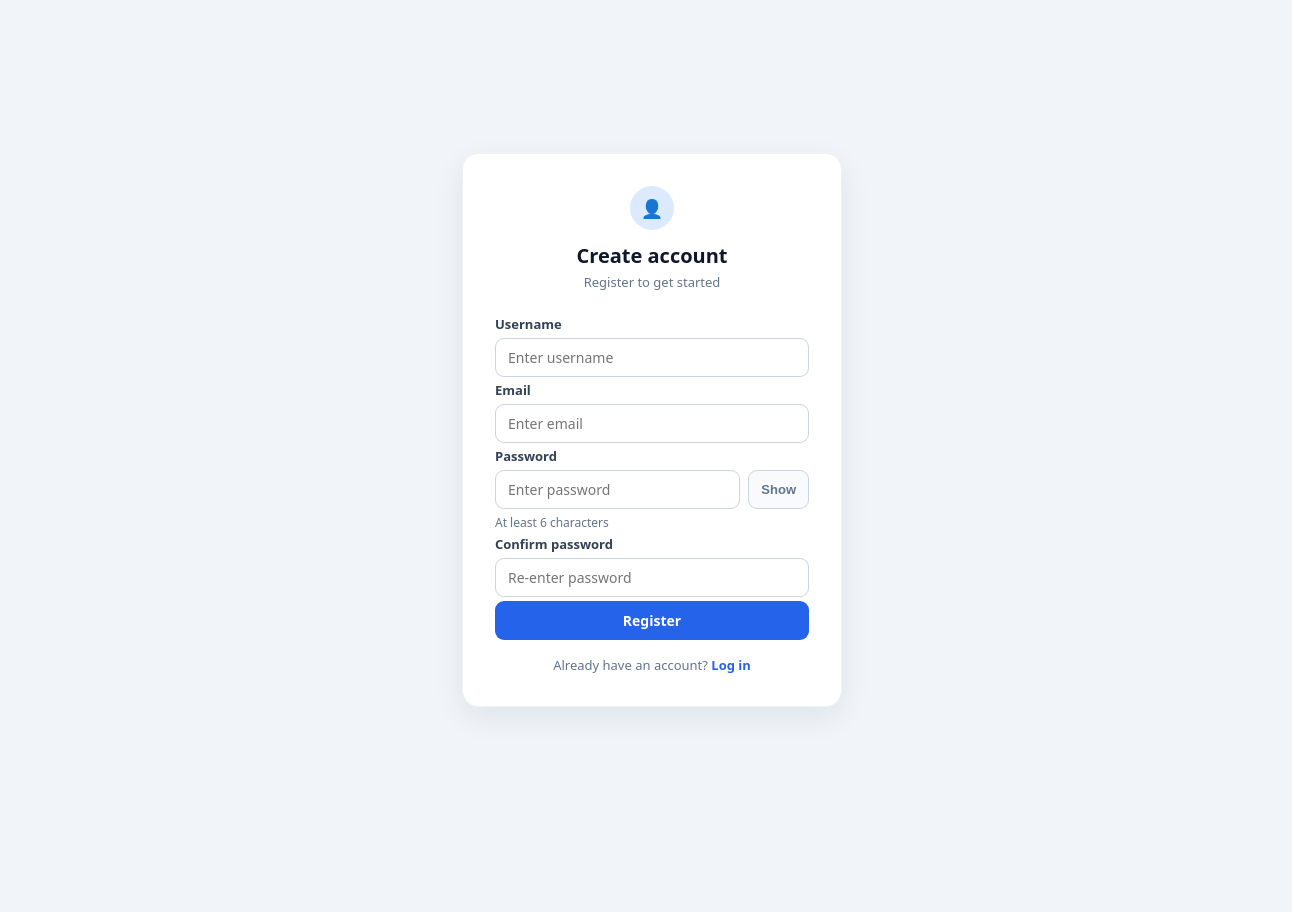
Register page › registers and redirects to login on success
The width and height of the screenshot is (1292, 912).
Type "New User" into the field labelled "Username" at (652, 358), box [495, 338, 809, 377]
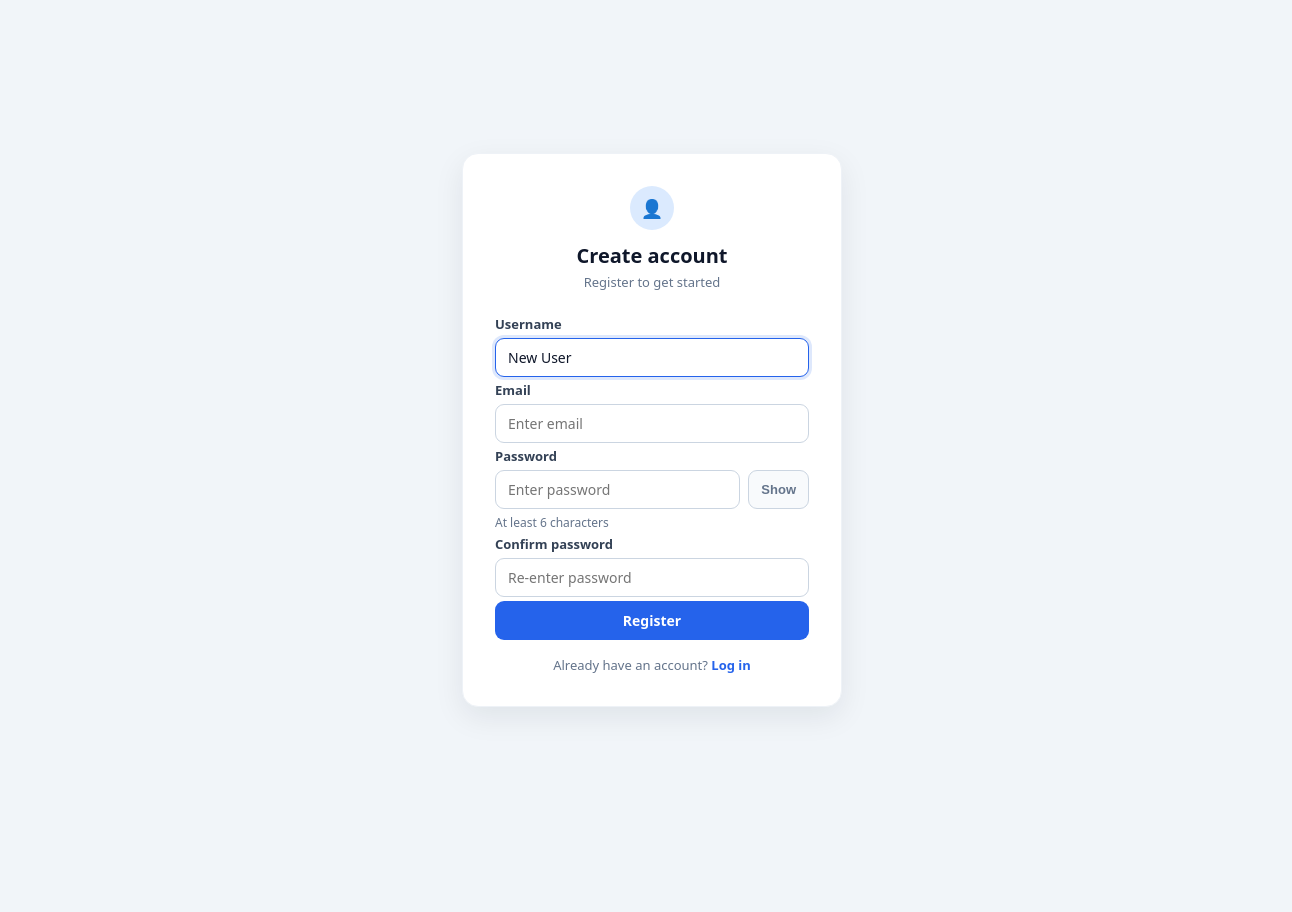
Type "new@example.com" into the field labelled "Email" at (652, 424), box [495, 404, 809, 443]
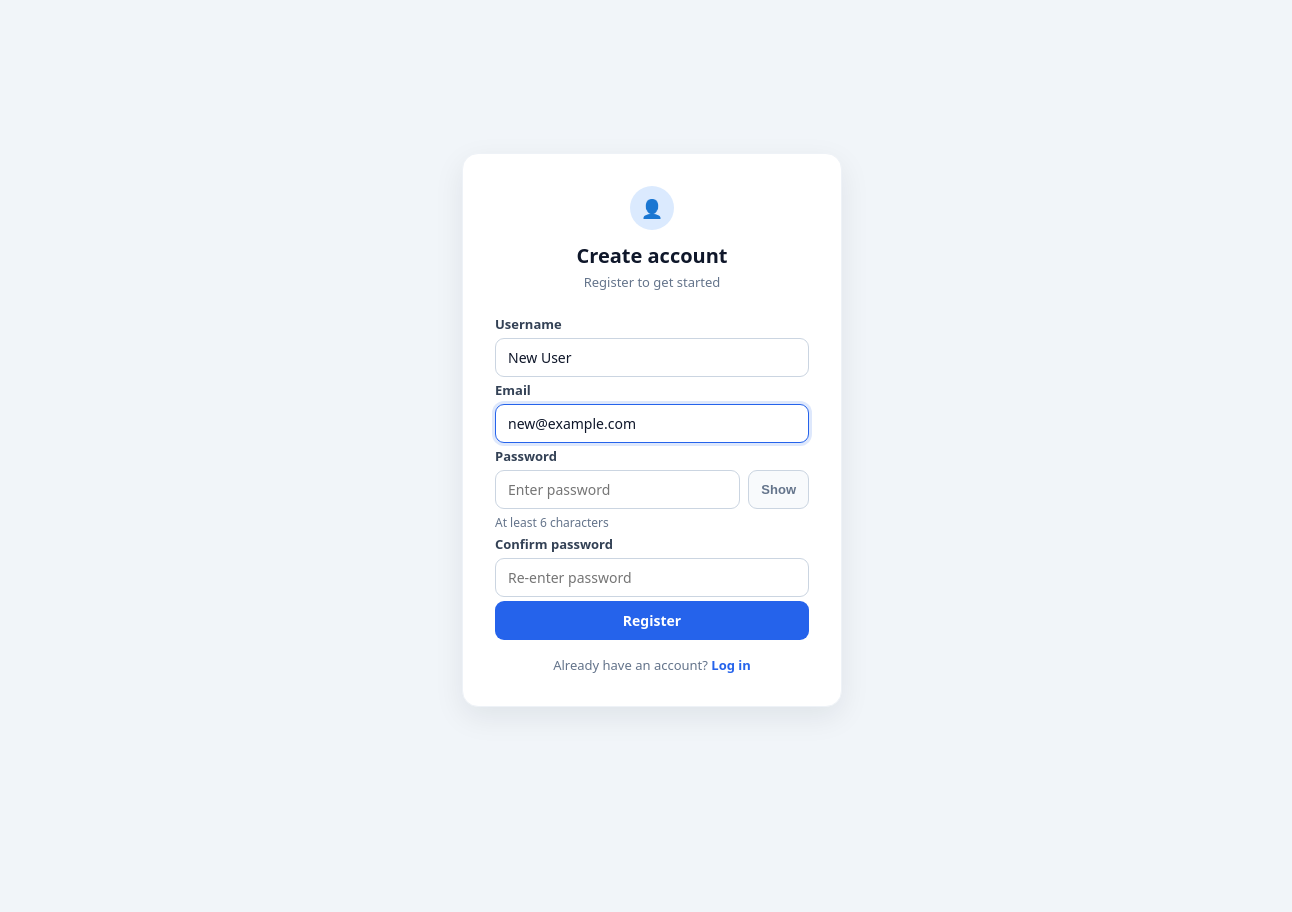
Type "password123" into the password field labelled "Password" at (618, 490), box [495, 470, 740, 509]
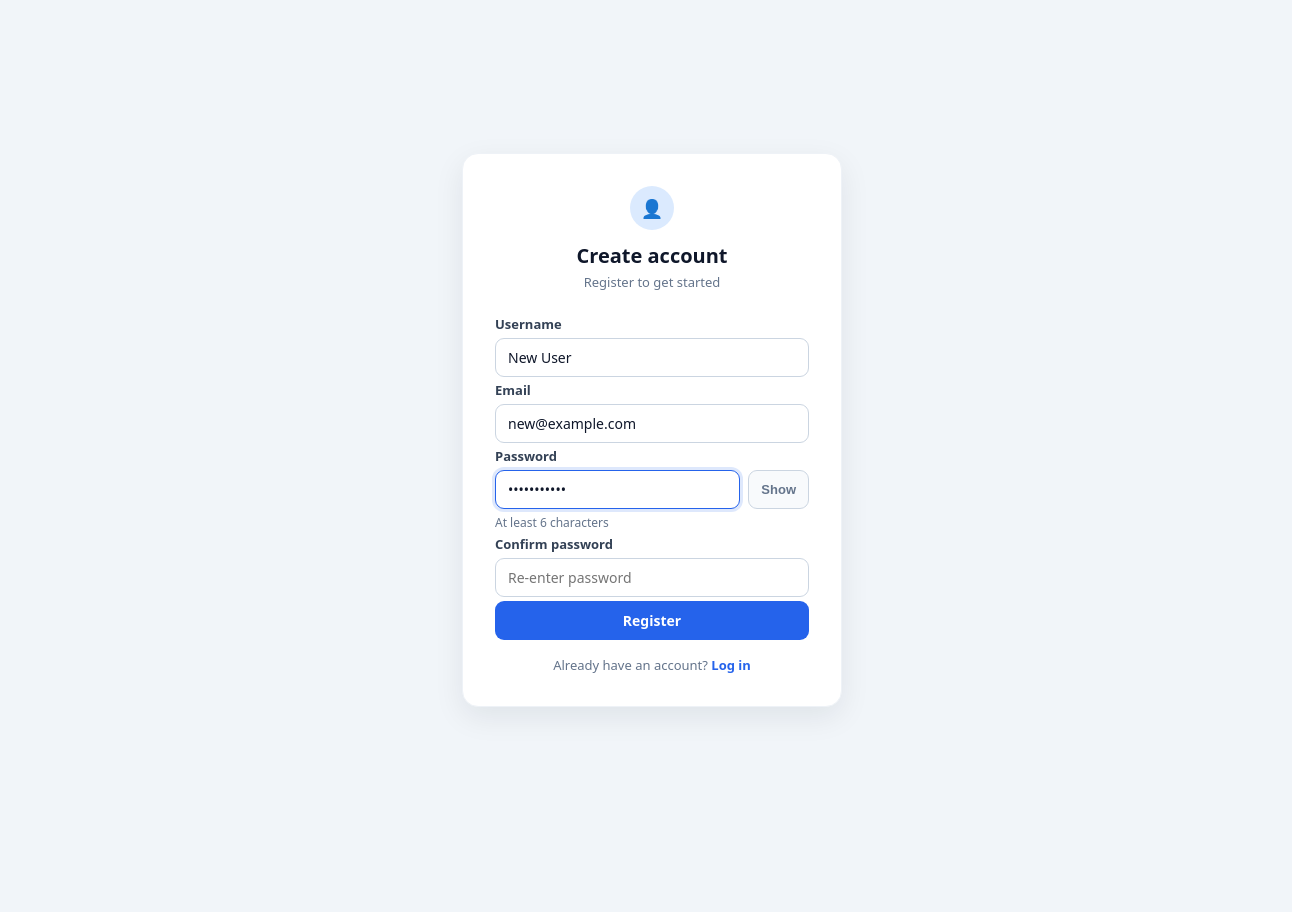
Type "password123" into the password field labelled "Confirm password" at (652, 578), box [495, 558, 809, 597]
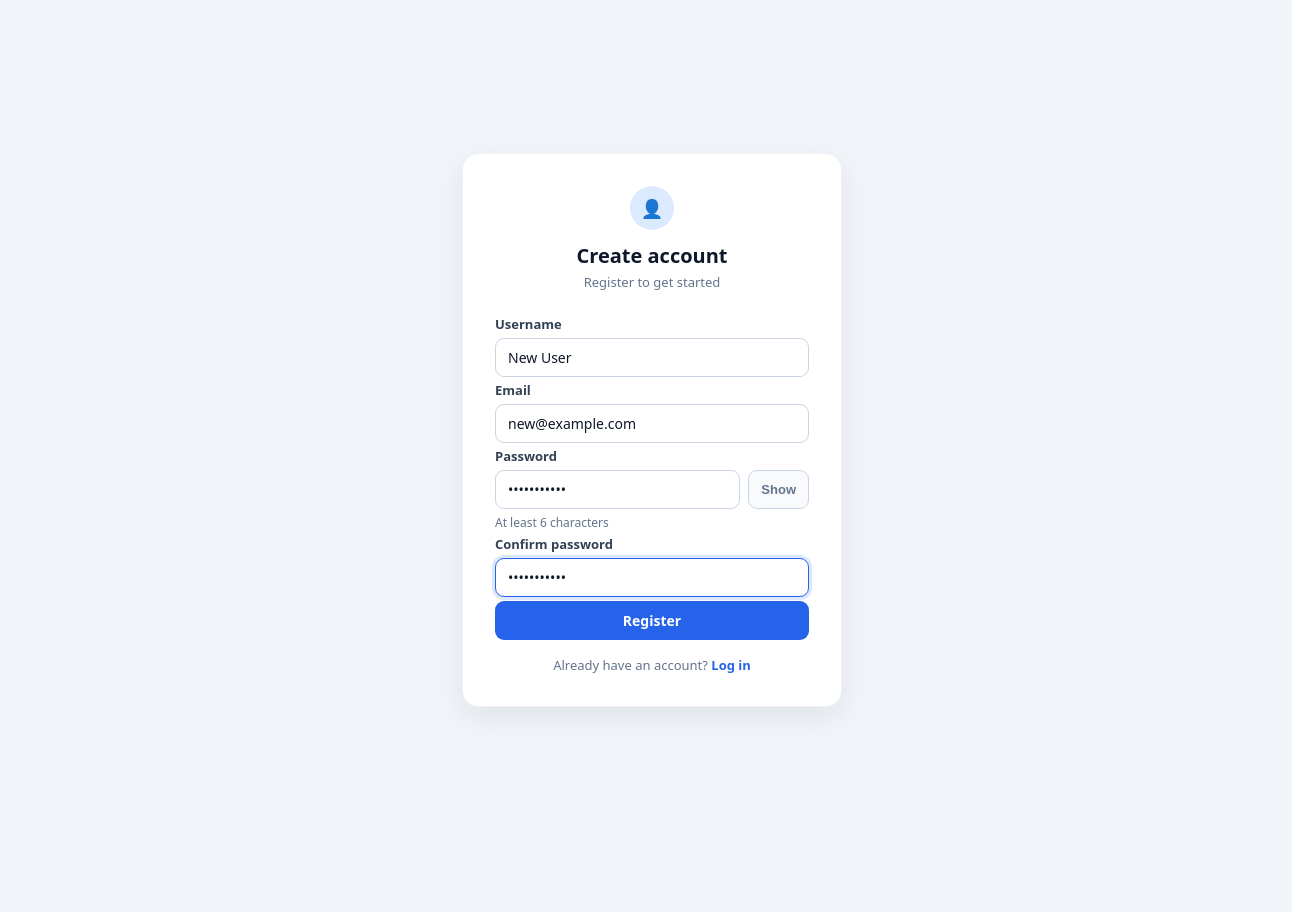
Click the button "Register" at (652, 620), box [495, 601, 809, 640]
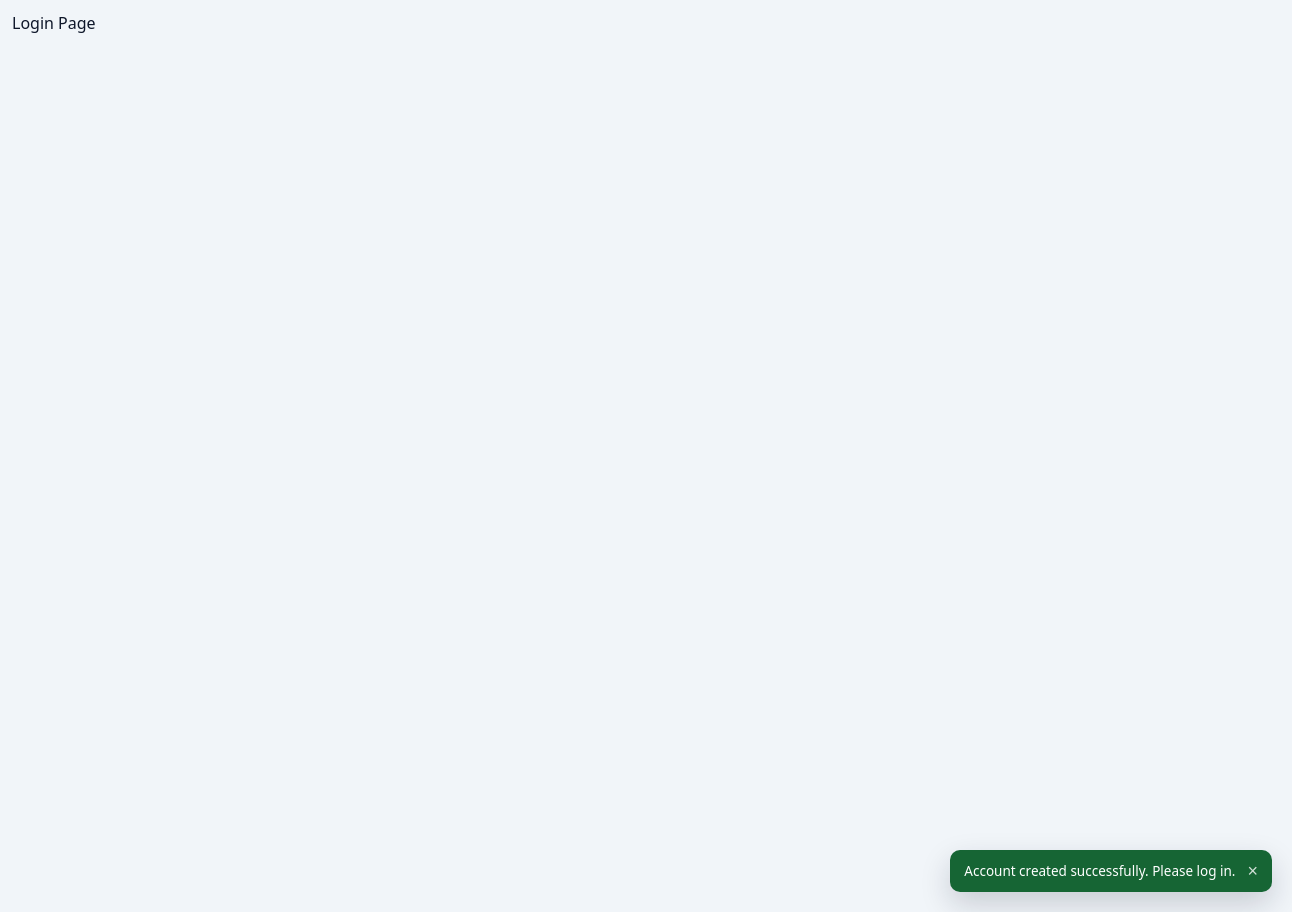
Result: the text "Login Page" is shown at [12, 12, 96, 34]
